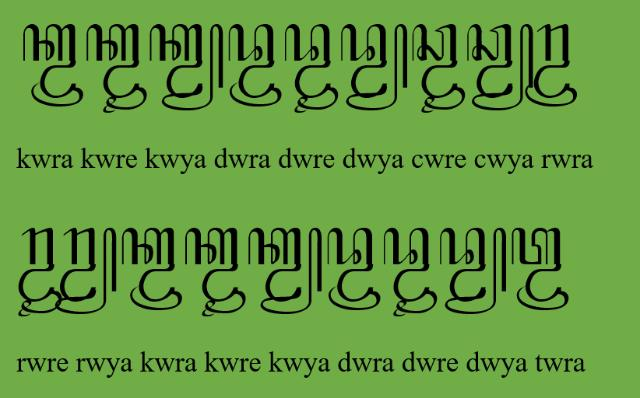cwre: (412, 23, 466, 113)
cwy: (466, 24, 534, 110)
dwr: (327, 226, 381, 312), (228, 23, 282, 107)
dwre: (285, 22, 339, 114), (383, 228, 437, 318)
dwy: (340, 23, 408, 111), (440, 227, 508, 315)
kwr: (22, 24, 84, 108), (121, 227, 182, 311)
kwre: (86, 24, 148, 114), (184, 228, 246, 318)
kwy: (149, 23, 223, 111), (248, 228, 322, 314)
rwr: (526, 23, 578, 107)
rwre: (18, 228, 62, 318)
rwy: (54, 228, 118, 316)
twr: (510, 227, 570, 311)
